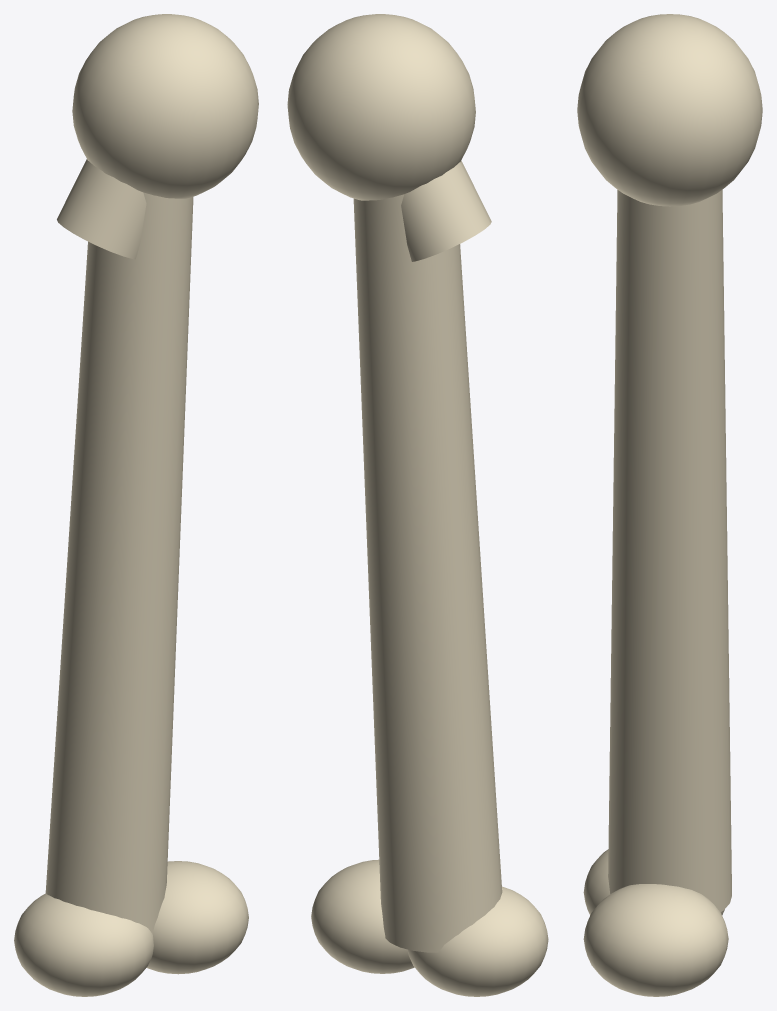
Rendered from left_femur.glb.
The picture shows the model from 3 angles, left to right: view 1: azimuth 30°, elevation 25°; view 2: azimuth 150°, elevation 25°; view 3: azimuth 270°, elevation 25°; orthographic projection. The views are drawn at different scales.
Visible parts, largest first — view 1: Left_femur_placeholder; view 2: Left_femur_placeholder; view 3: Left_femur_placeholder.
Boxes of the visible parts, x1,y1,x2,y2 form: Left_femur_placeholder: (14, 14, 258, 996); Left_femur_placeholder: (287, 14, 548, 996); Left_femur_placeholder: (577, 14, 762, 996).
Bounding box in the file's own units: 0.395 × 1.54 × 0.2688.
